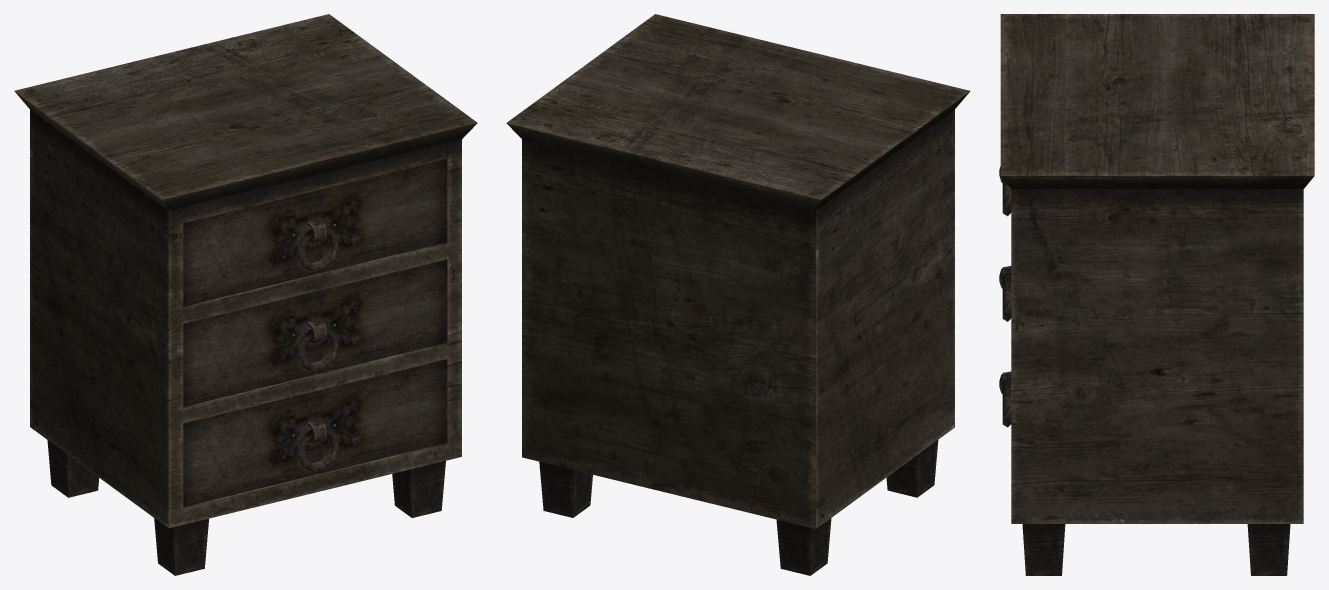
The model's file is chest_of_drawers_simple.dae.
The picture shows the model from 3 angles, left to right: view 1: azimuth 30°, elevation 25°; view 2: azimuth 150°, elevation 25°; view 3: azimuth 270°, elevation 25°; orthographic projection. The views are drawn at different scales.
Visible parts, largest first — view 1: polySurface6, polySurface18, polySurface17, polySurface16; view 2: polySurface6; view 3: polySurface6, polySurface18, polySurface16.
Part boxes in pixels (left/top/right/bottom): polySurface6: left=14, top=14, right=477, bottom=575; polySurface18: left=183, top=359, right=445, bottom=506; polySurface17: left=183, top=159, right=445, bottom=306; polySurface16: left=183, top=260, right=445, bottom=406; polySurface6: left=506, top=14, right=970, bottom=575; polySurface6: left=1000, top=14, right=1314, bottom=575; polySurface18: left=999, top=371, right=1011, bottom=427; polySurface16: left=999, top=266, right=1011, bottom=321.
Bounding box in the file's own units: 1.18 × 1.4 × 0.9697.
